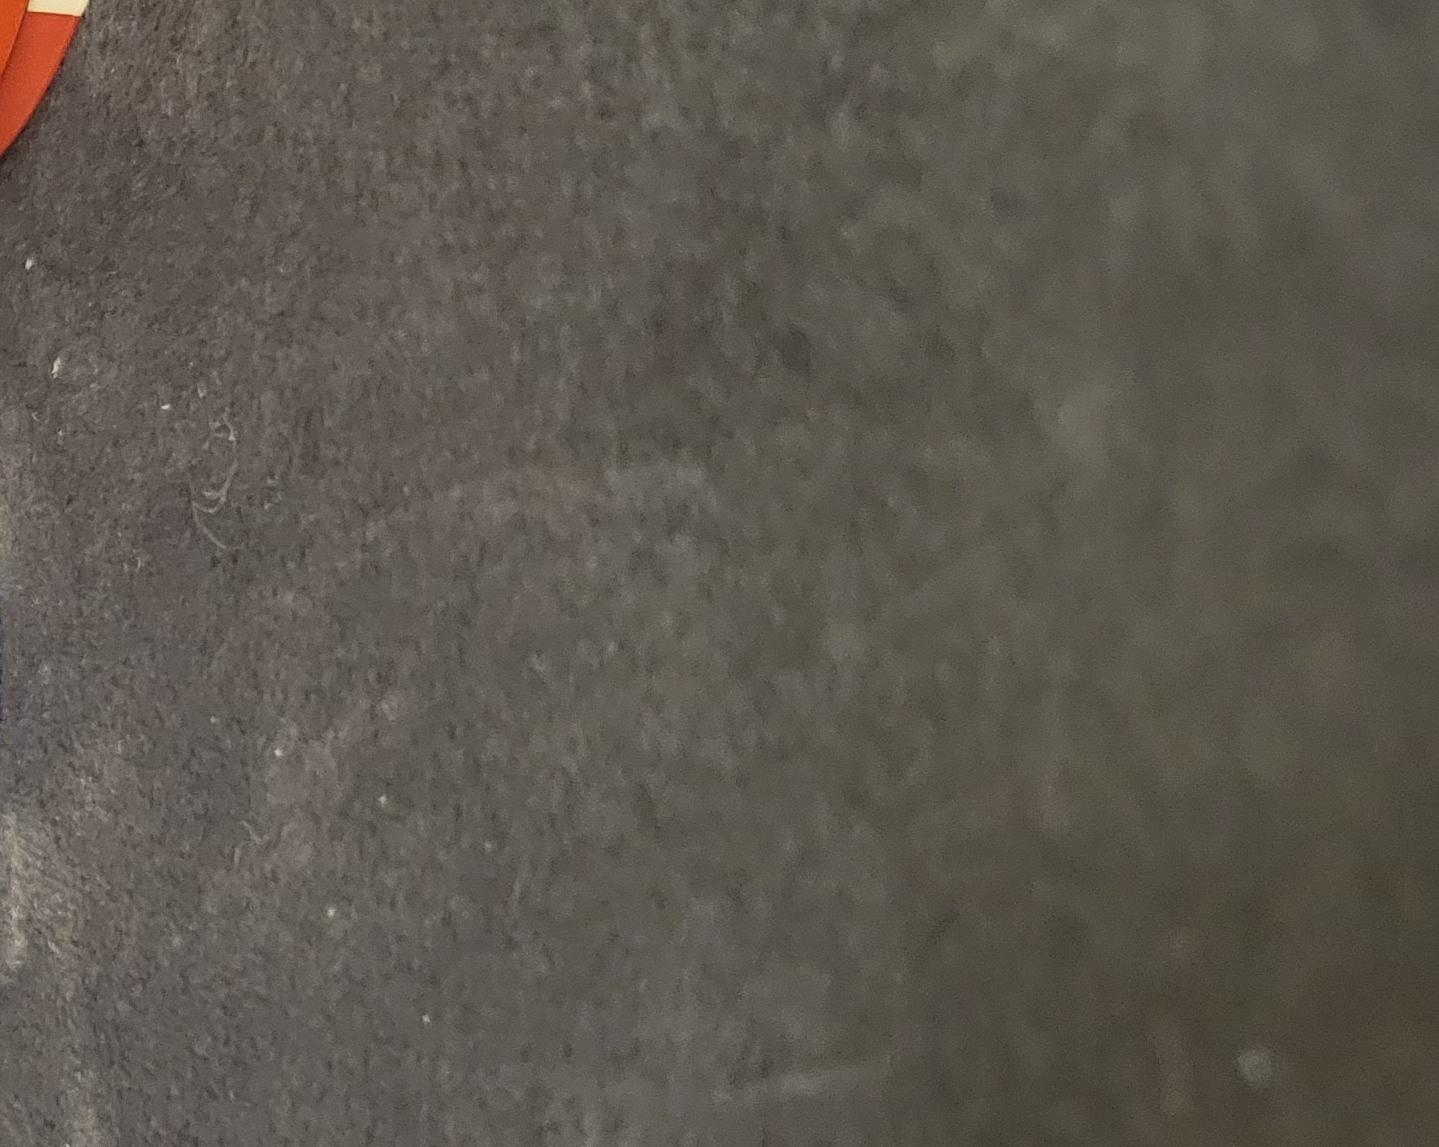Chip: (1, 300, 461, 1147)
